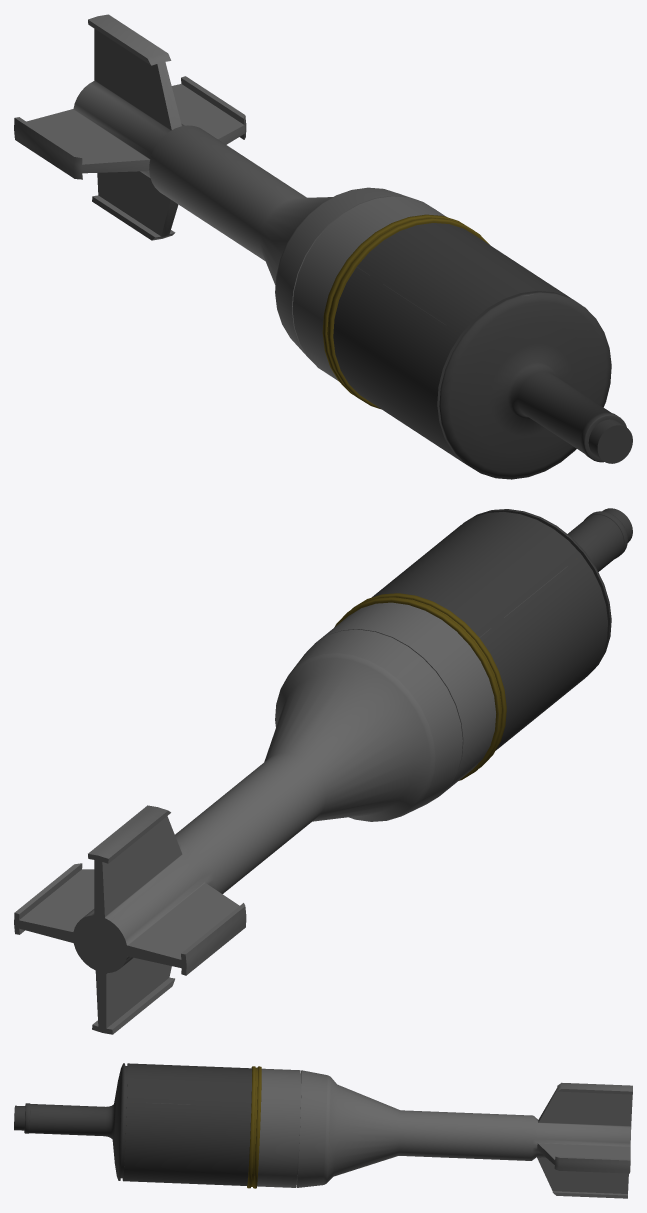
File: Heat.fbx
3 views of the same model, one above another, from view 1: azimuth 30°, elevation 25°; view 2: azimuth 150°, elevation 25°; view 3: azimuth 270°, elevation 25° (orthographic). The views are drawn at different scales.
Parts seen in each view (by area): view 1: Cylinder; view 2: Cylinder; view 3: Cylinder.
Boxes of the visible parts, x1,y1,x2,y2 form: Cylinder: [14, 14, 632, 479]; Cylinder: [14, 508, 632, 1034]; Cylinder: [14, 1063, 632, 1198].
Bounding box in the file's own units: 27.2 × 138 × 31.27.
1 material, 1 textured.
